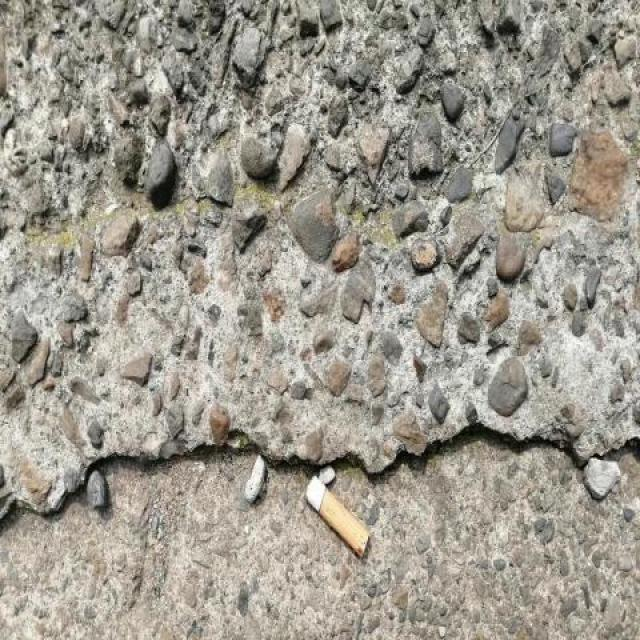non-organic waste: (300, 471, 373, 562)
